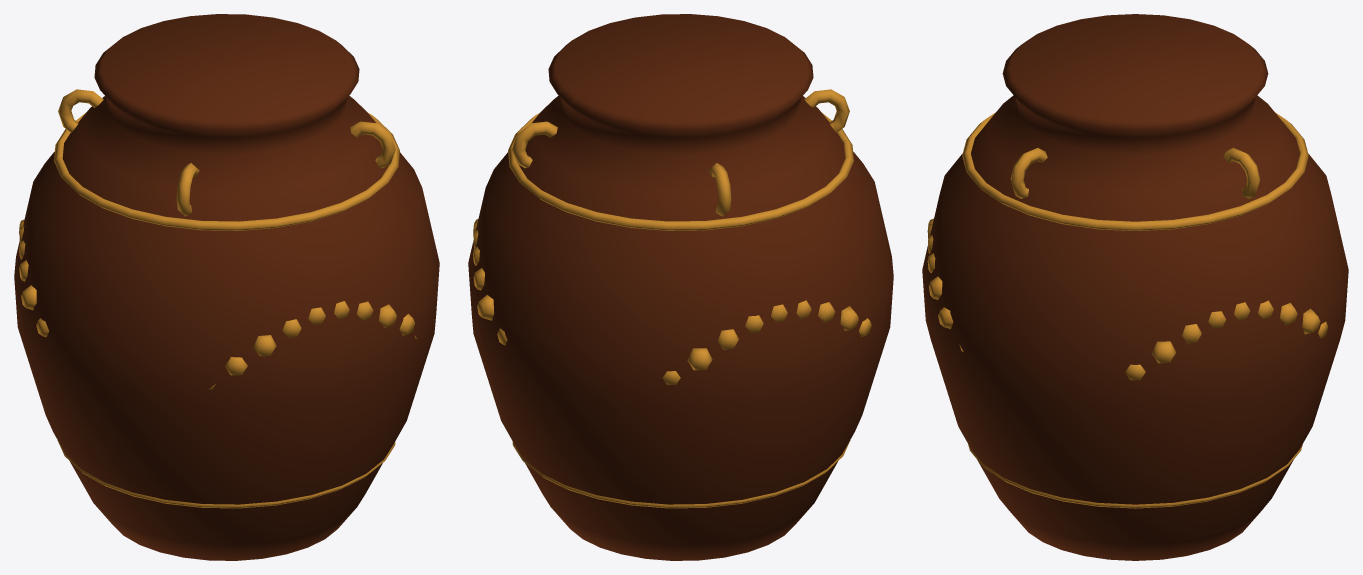
Rendered from dragon_jar.glb.
3 views of the same model, side by side, from view 1: azimuth 30°, elevation 25°; view 2: azimuth 150°, elevation 25°; view 3: azimuth 270°, elevation 25° (orthographic).
Visible parts, largest first — view 1: dragon_jar; view 2: dragon_jar; view 3: dragon_jar.
Part boxes in pixels (box(x1,y1,x2,y2)): dragon_jar: box(14, 14, 439, 560); dragon_jar: box(468, 14, 893, 560); dragon_jar: box(922, 14, 1348, 560).
Size of the model in its own units: 0.6231 by 0.7 by 0.61.
